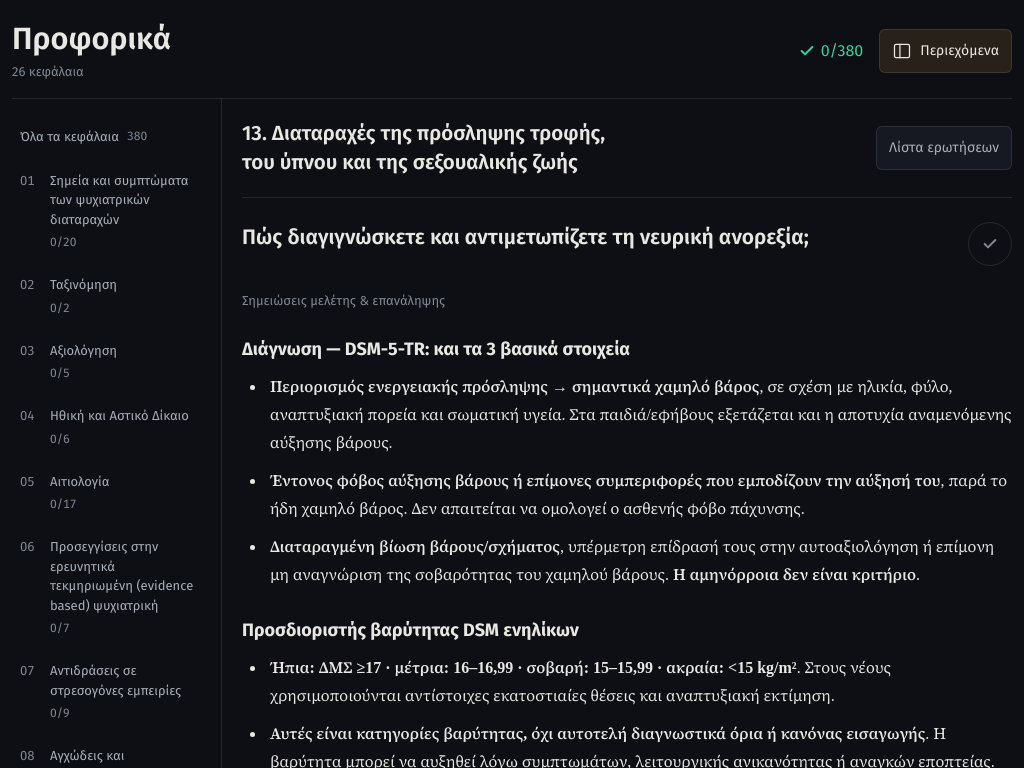
Test case: Chapter 13 board revision › shows the revision format for both crucial and clinical cards while preserving completion and navigation
Expected: the text "Σημειώσεις μελέτης & επανάληψης" is shown, x1=242 y1=293 x2=445 y2=308
Expected: the heading "Διάγνωση — DSM-5-TR: και τα 3 βασικά στοιχεία" is shown, x1=242 y1=338 x2=630 y2=360
Click the button named "Ολοκληρώθηκε" at (990, 244), box x1=968 y1=222 x2=1012 y2=266
(page scrolled)
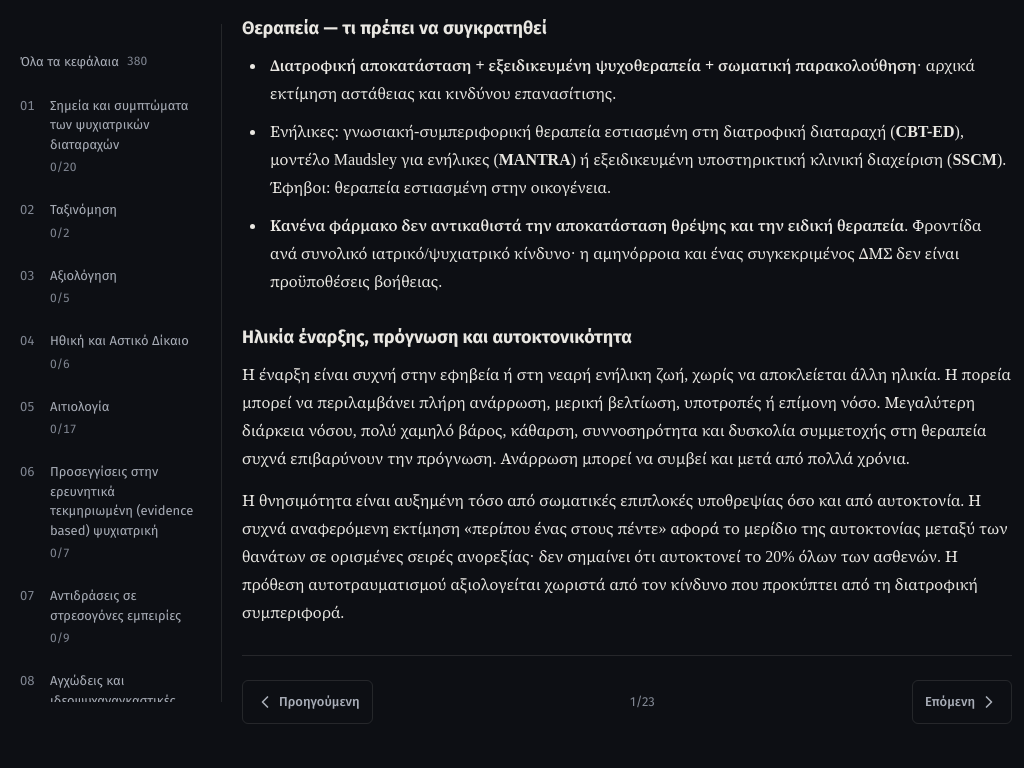
Click the button "Επόμενη" at (962, 702), box x1=912 y1=680 x2=1012 y2=724
(page scrolled)
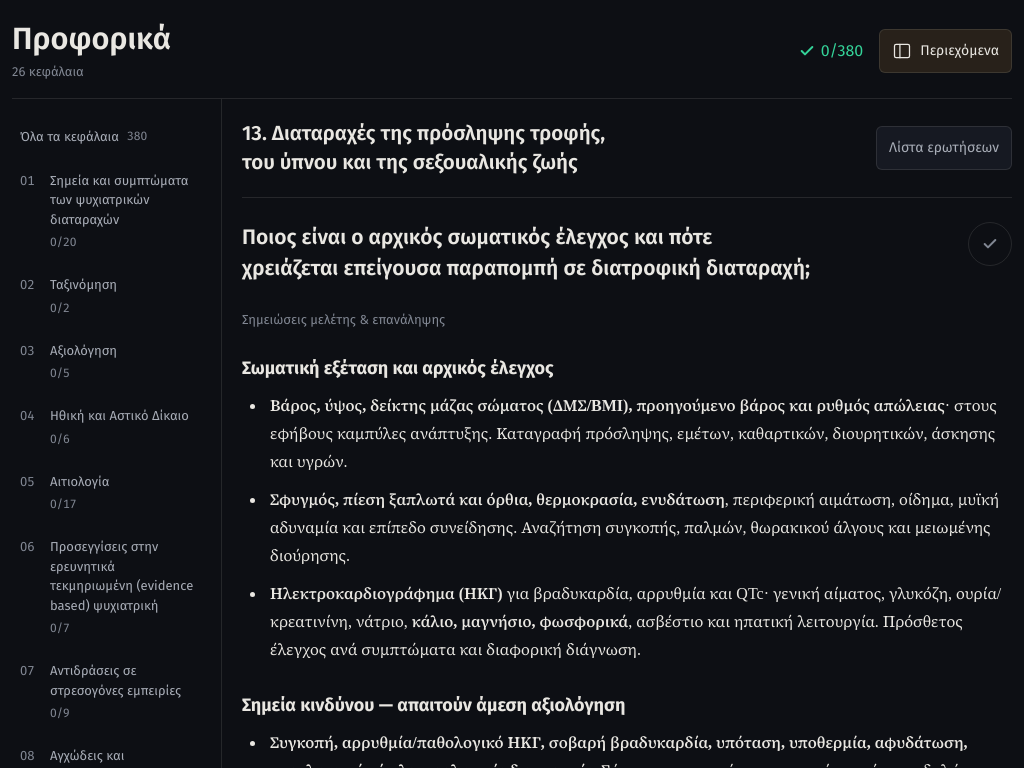
Expected: the text "Σημειώσεις μελέτης & επανάληψης" is shown, x1=242 y1=312 x2=445 y2=327
Now the heading "Ποιος είναι ο αρχικός σωματικός έλεγχος" is shown, box x1=242 y1=224 x2=810 y2=281
